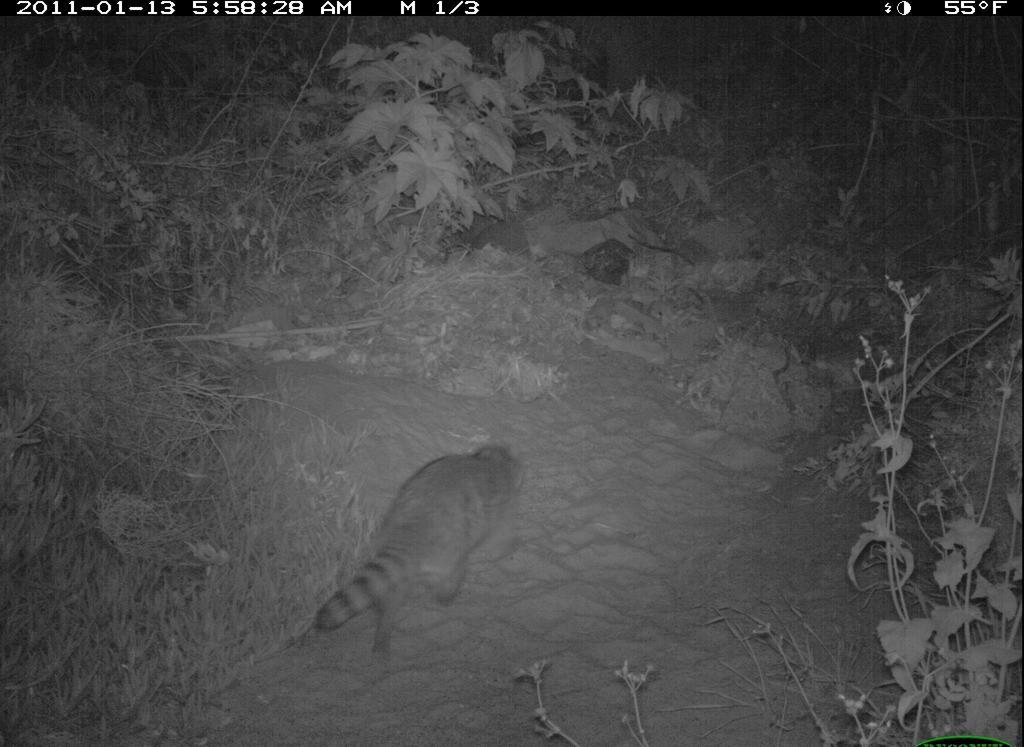raccoon: (304, 428, 527, 683)
